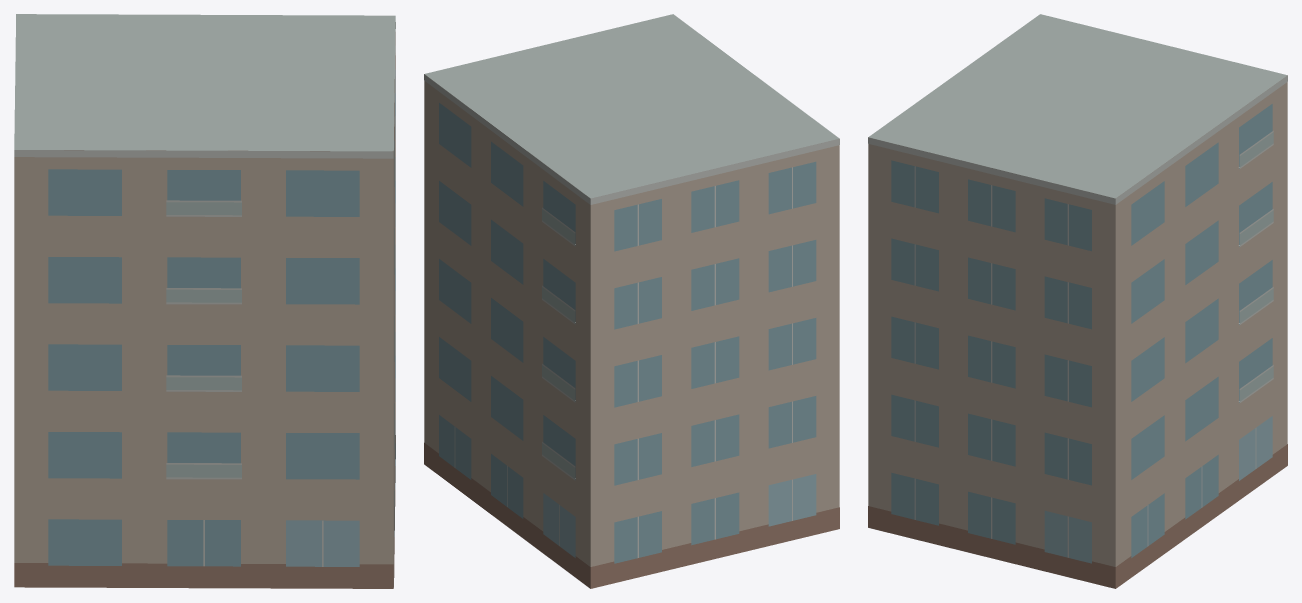
Rendered from survey-upis-32874332.glb.
3 renders of one model, left to right at view 1: azimuth 30°, elevation 25°; view 2: azimuth 150°, elevation 25°; view 3: azimuth 270°, elevation 25°, orthographic. The views are drawn at different scales.
Visible parts, largest first — view 1: survey-upis-32874332.tmp; view 2: survey-upis-32874332.tmp; view 3: survey-upis-32874332.tmp.
Part boxes in pixels (left/top/right/bottom): survey-upis-32874332.tmp: left=14, top=14, right=395, bottom=588; survey-upis-32874332.tmp: left=424, top=14, right=839, bottom=588; survey-upis-32874332.tmp: left=868, top=14, right=1287, bottom=588.
Bounding box in the file's own units: 14.96 × 14.75 × 14.38.
